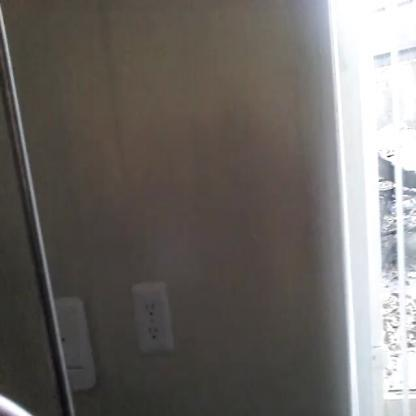OUTLET: (134, 283, 170, 353)
